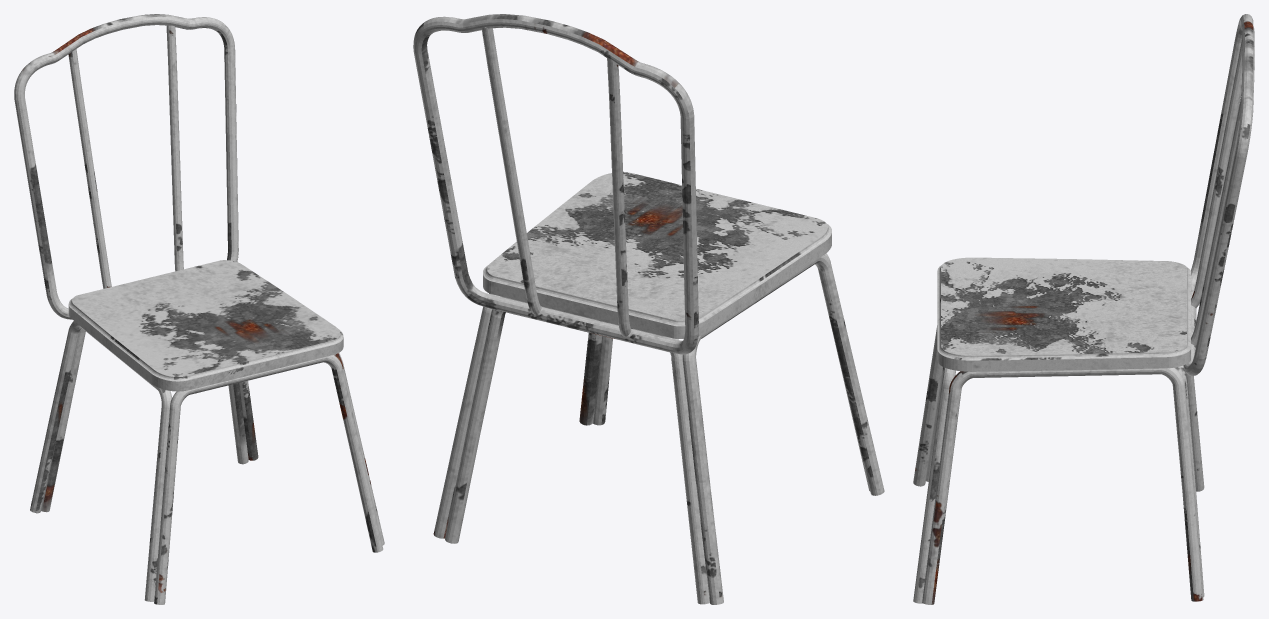
File: tdc-dtr-stool-1.glb
3 renders of one model, left to right at view 1: azimuth 30°, elevation 25°; view 2: azimuth 150°, elevation 25°; view 3: azimuth 270°, elevation 25°, orthographic. The views are drawn at different scales.
Visible parts, largest first — view 1: tdc-dtr-stool-1; view 2: tdc-dtr-stool-1; view 3: tdc-dtr-stool-1.
Part boxes in pixels (x1,y1,x2,y2): tdc-dtr-stool-1: (14, 14, 384, 604); tdc-dtr-stool-1: (413, 14, 884, 604); tdc-dtr-stool-1: (913, 14, 1254, 604).
Size of the model in its own units: 0.2262 by 0.4081 by 0.2513.
1 material, 1 textured.
